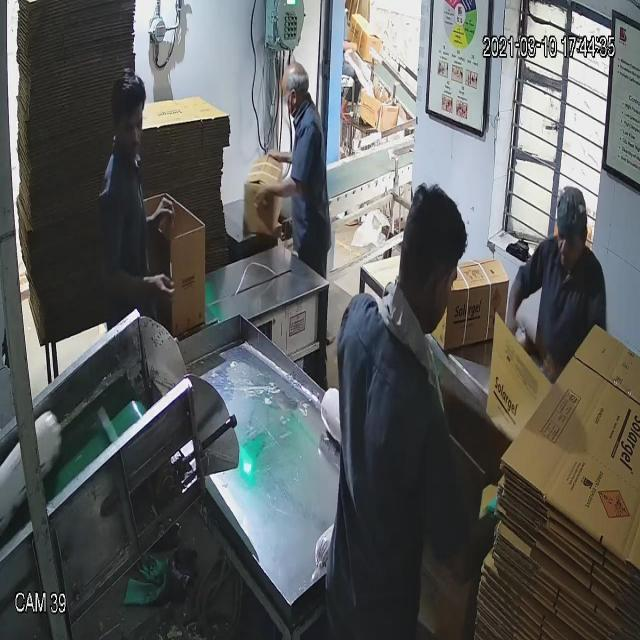No_Gloves: (33, 55, 514, 308)
